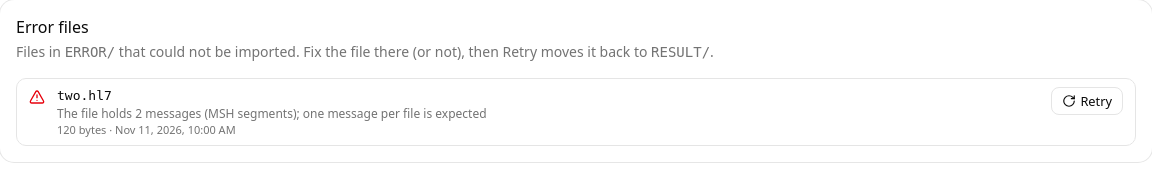
FileErrorsCard › lists error files with their reason and retries one
Expected: the text "holds 2 messages" is shown, top-left (57, 105), bottom-right (486, 122)
Click the button "Retry" at (1087, 101), box top-left (1051, 87), bottom-right (1123, 115)
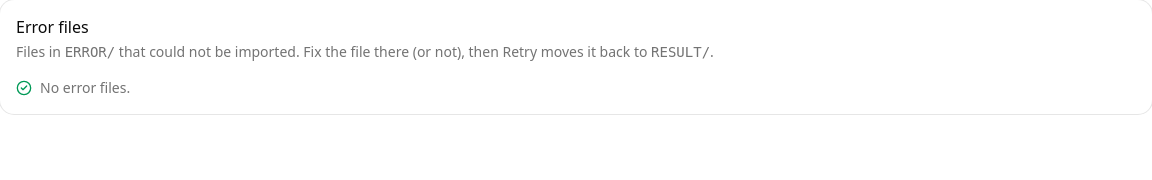
Expected: the text "No error files." is shown, top-left (16, 78), bottom-right (130, 97)
